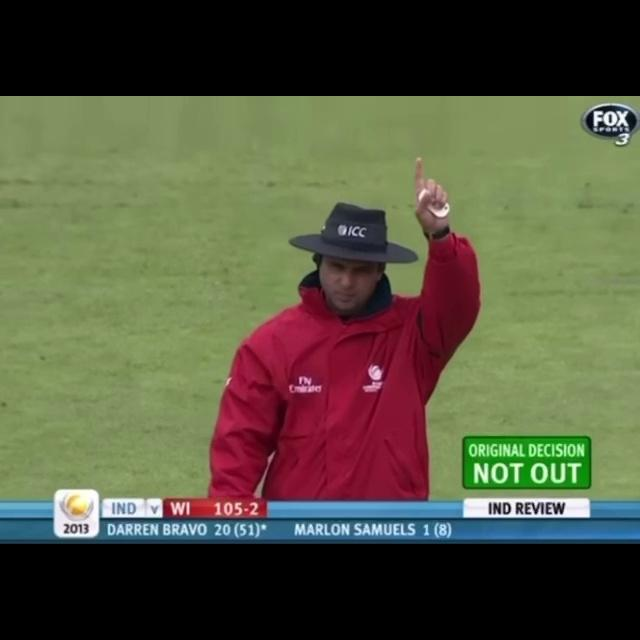umpire: (113, 139, 565, 443)
